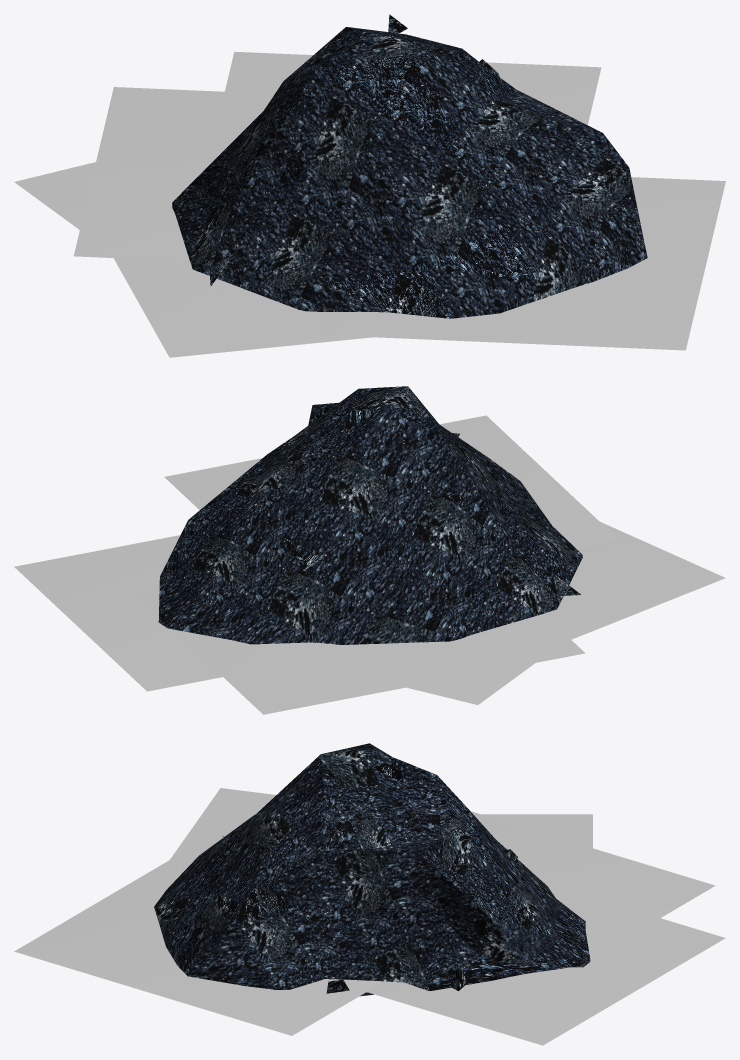
The model's file is coal001.FBX.
3 views of the same model, one above another, from view 1: azimuth 30°, elevation 25°; view 2: azimuth 150°, elevation 25°; view 3: azimuth 270°, elevation 25° (orthographic). The views are drawn at different scales.
Parts seen in each view (by area): view 1: wall, Plane001; view 2: wall, Plane001; view 3: wall, Plane001.
Part boxes in pixels (x1,y1,x2,y2): wall: [172, 14, 647, 318]; Plane001: [14, 51, 725, 357]; wall: [158, 386, 582, 644]; Plane001: [14, 415, 725, 714]; wall: [154, 743, 590, 996]; Plane001: [14, 788, 725, 1045].
Size of the model in its own units: 207 by 66.02 by 242.
